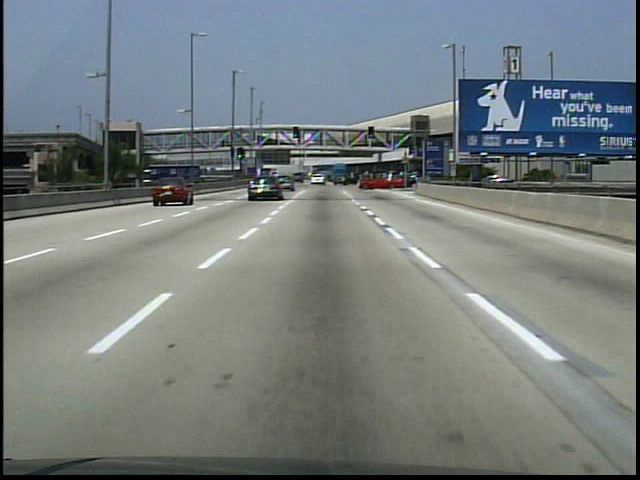person: (220, 138, 226, 150)
